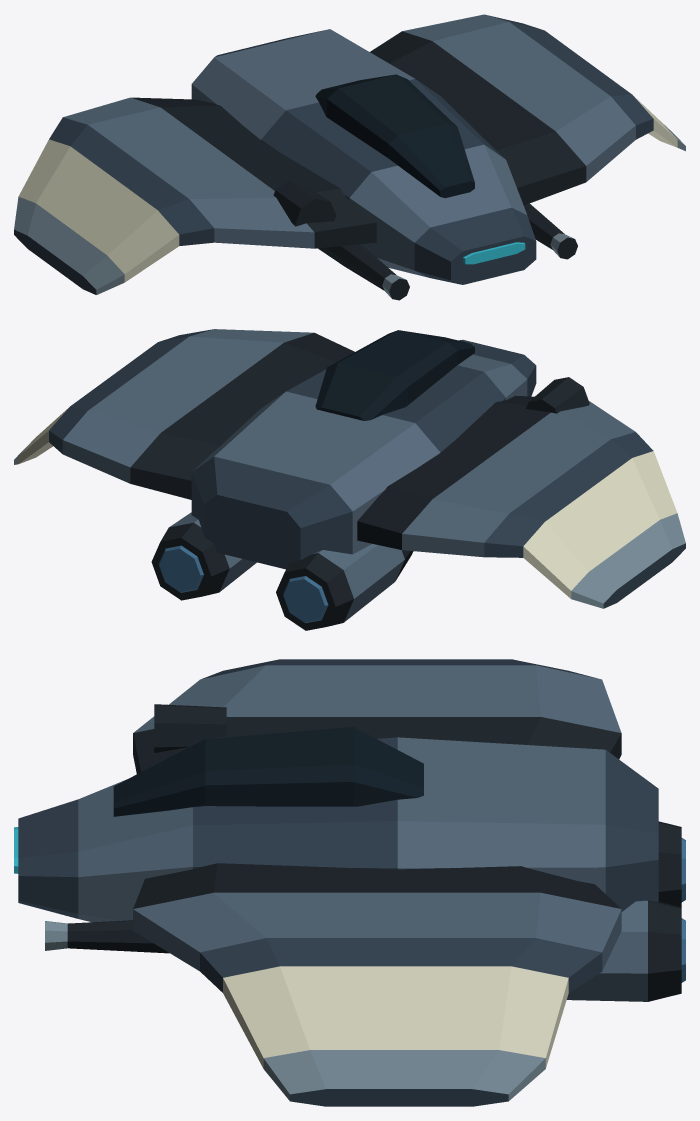
File: VeilDamaged.obj
The picture shows the model from 3 angles, top to bottom: view 1: azimuth 30°, elevation 25°; view 2: azimuth 150°, elevation 25°; view 3: azimuth 270°, elevation 25°; orthographic projection. The views are drawn at different scales.
Visible parts, largest first — view 1: port_wing, fuselage, starboard_wing, canopy, port_cannon, sensor_socket, starboard_cannon, visor; view 2: port_wing, fuselage, starboard_wing, canopy, port_engine, starboard_engine, port_exhaust, starboard_exhaust, sensor_socket; view 3: starboard_wing, fuselage, port_wing, canopy, starboard_engine, starboard_cannon, sensor_socket, port_engine.
Boxes of the visible parts, box(x1,y1,x2,y2) form: port_wing: box(14, 97, 376, 294); fuselage: box(191, 29, 536, 284); starboard_wing: box(370, 14, 685, 205); canopy: box(315, 74, 474, 198); port_cannon: box(318, 244, 409, 300); sensor_socket: box(273, 181, 336, 226); starboard_cannon: box(524, 203, 577, 259); visor: box(463, 242, 525, 264); port_wing: box(357, 395, 685, 608); fuselage: box(191, 339, 536, 569); starboard_wing: box(14, 329, 354, 499); canopy: box(315, 330, 474, 420); port_engine: box(276, 544, 413, 630); starboard_engine: box(151, 512, 256, 600); port_exhaust: box(283, 576, 328, 623); starboard_exhaust: box(159, 545, 203, 592); sensor_socket: box(526, 377, 589, 413); starboard_wing: box(133, 863, 621, 1106); fuselage: box(18, 737, 658, 922); port_wing: box(133, 659, 621, 773); canopy: box(113, 727, 423, 816); starboard_engine: box(566, 900, 681, 1001); starboard_cannon: box(45, 920, 169, 953); sensor_socket: box(154, 704, 226, 752); port_engine: box(658, 821, 681, 907).
Bounding box in the file's own units: 5.12 × 1.34 × 3.81.
